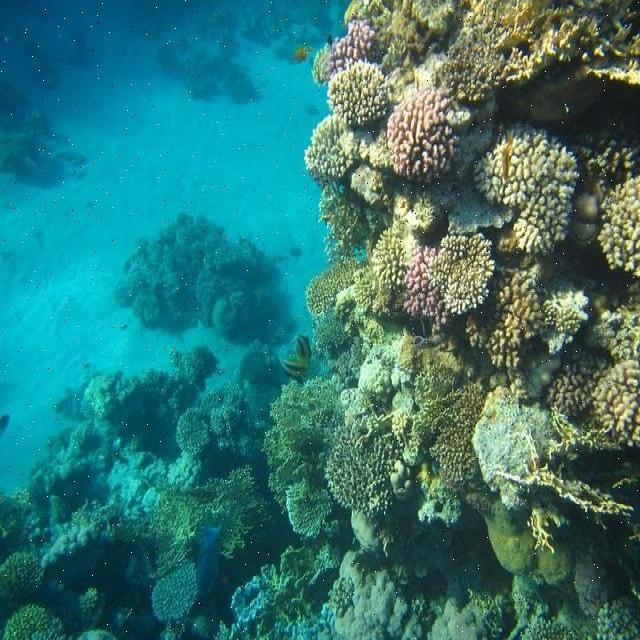fish: (276, 335, 313, 381)
reefs: (0, 0, 639, 639)
